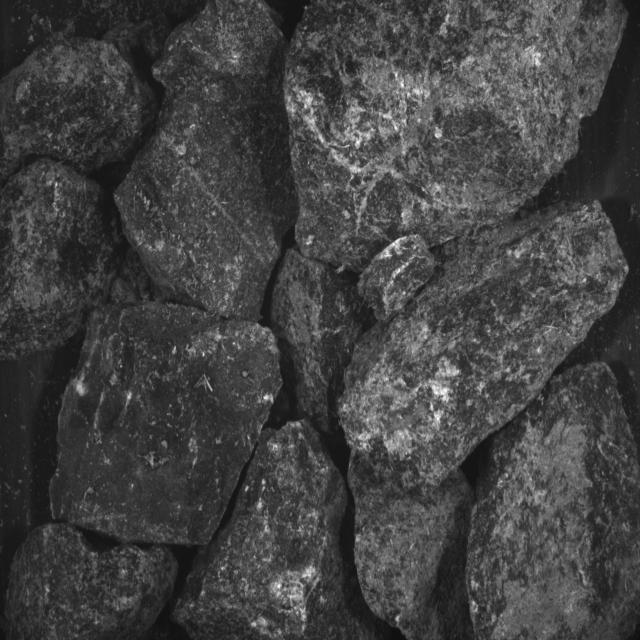Stones: (285, 1, 627, 273), (340, 202, 629, 493), (116, 1, 299, 321), (51, 303, 281, 545), (467, 363, 640, 640), (175, 422, 375, 640), (1, 159, 121, 360), (350, 452, 475, 640), (1, 39, 157, 181), (6, 525, 179, 640), (272, 249, 371, 433), (359, 235, 436, 322), (436, 116, 437, 120)
